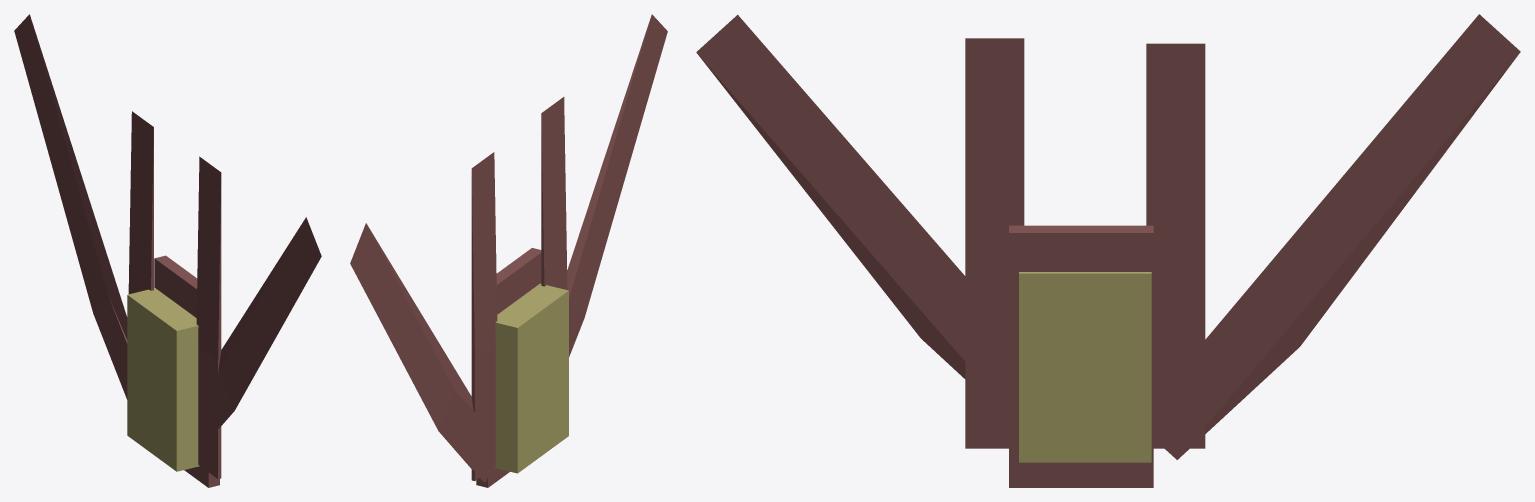
File: gwr-outside-frame-hanger.dae
3 views of the same model, side by side, from view 1: azimuth 30°, elevation 25°; view 2: azimuth 150°, elevation 25°; view 3: azimuth 270°, elevation 25° (orthographic). The views are drawn at different scales.
Parts seen in each view (by area): view 1: Cube_023_013, Cube_068, Cube_067, Cube_070, Cube_069, Cube_023_002; view 2: Cube_023_013, Cube_068, Cube_067, Cube_069, Cube_070, Cube_023_002; view 3: Cube_068, Cube_067, Cube_023_013, Cube_069, Cube_070, Cube_023_002.
Part boxes in pixels (x1,y1,x2,y2): Cube_023_013: (127,288,199,471); Cube_068: (14,14,127,399); Cube_067: (198,217,321,428); Cube_070: (196,156,221,479); Cube_069: (128,111,153,294); Cube_023_002: (154,255,219,487); Cube_023_013: (494,283,568,473); Cube_068: (350,223,495,482); Cube_067: (567,14,667,356); Cube_069: (471,152,497,480); Cube_070: (541,97,567,289); Cube_023_002: (476,248,541,487); Cube_068: (1159,14,1520,459); Cube_067: (696,14,1008,410); Cube_023_013: (1019,272,1151,462); Cube_069: (1146,43,1205,448); Cube_070: (965,38,1024,448); Cube_023_002: (1009,225,1153,487).
Bounding box in the file's own units: 0.0759 × 0.9629 × 0.5982.
